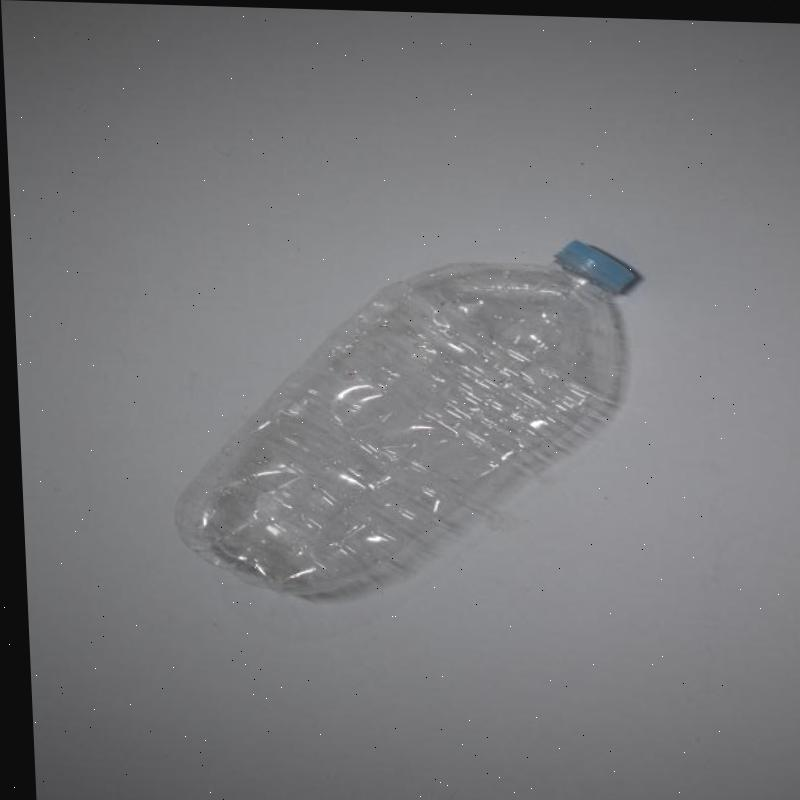botella: (155, 225, 648, 605)
